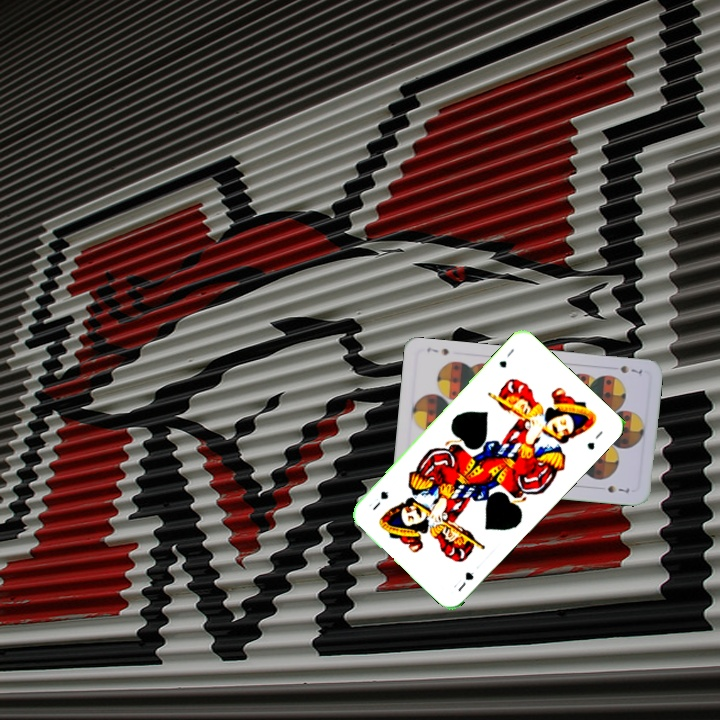GU: (495, 344, 517, 370), (454, 568, 476, 594)
S7: (616, 361, 645, 377)
